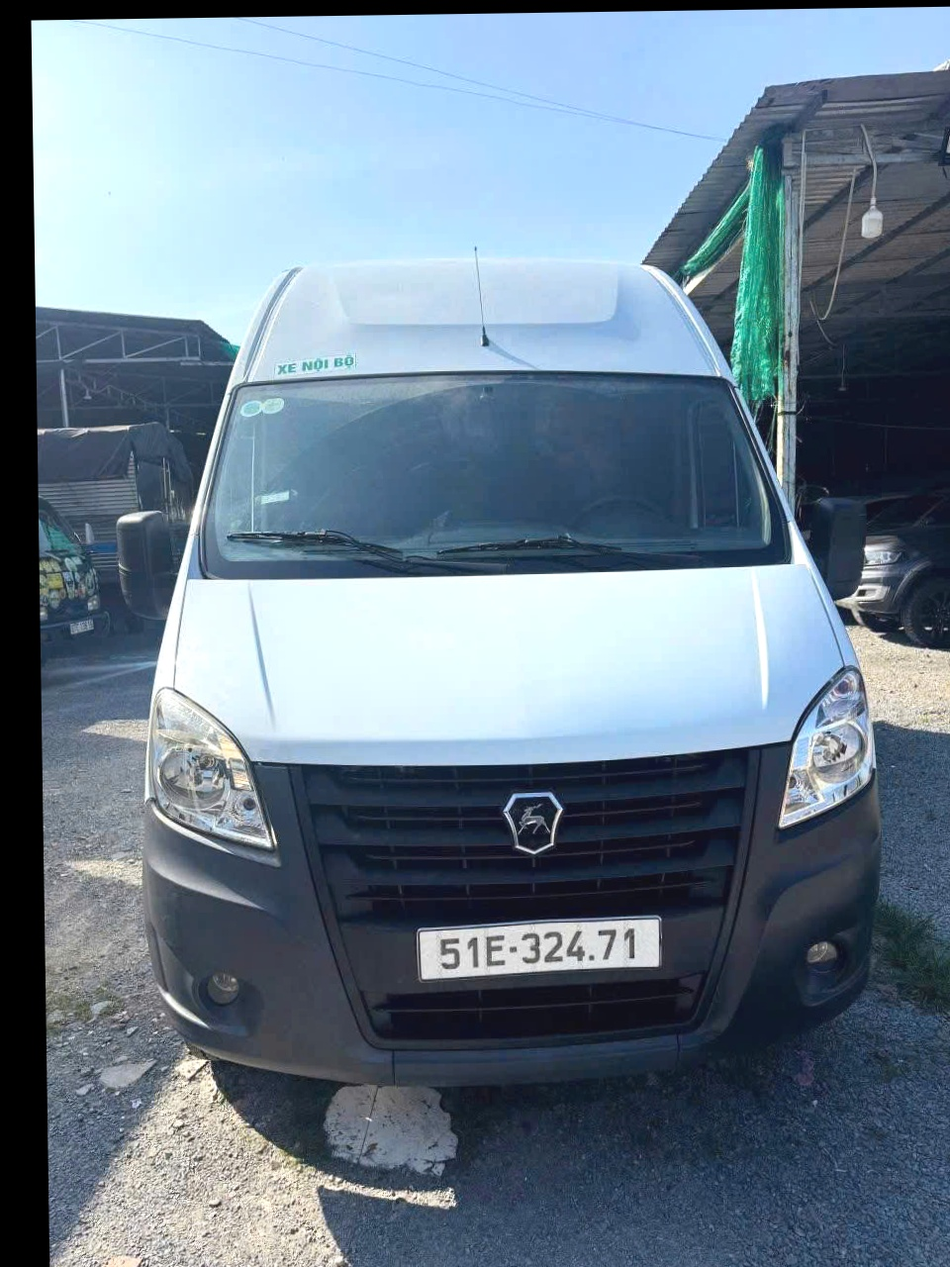Bien-so: (386, 880, 631, 936)
